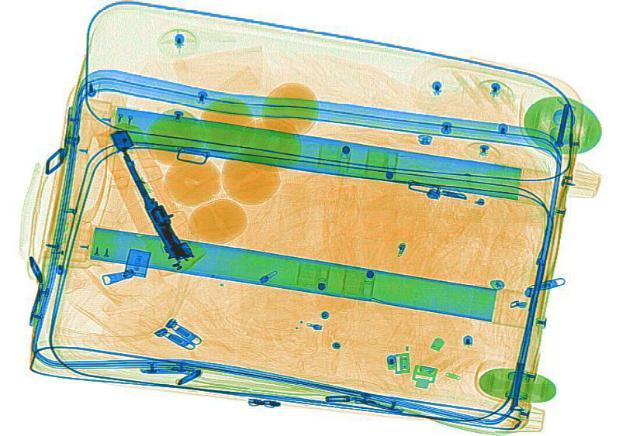Gun: (96, 123, 204, 265)
